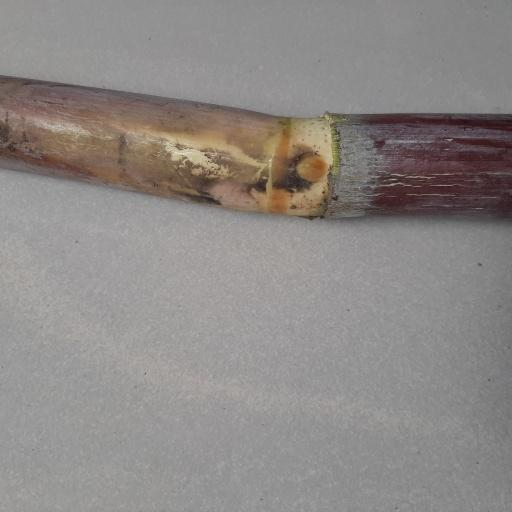Bud: (295, 153, 328, 183)
